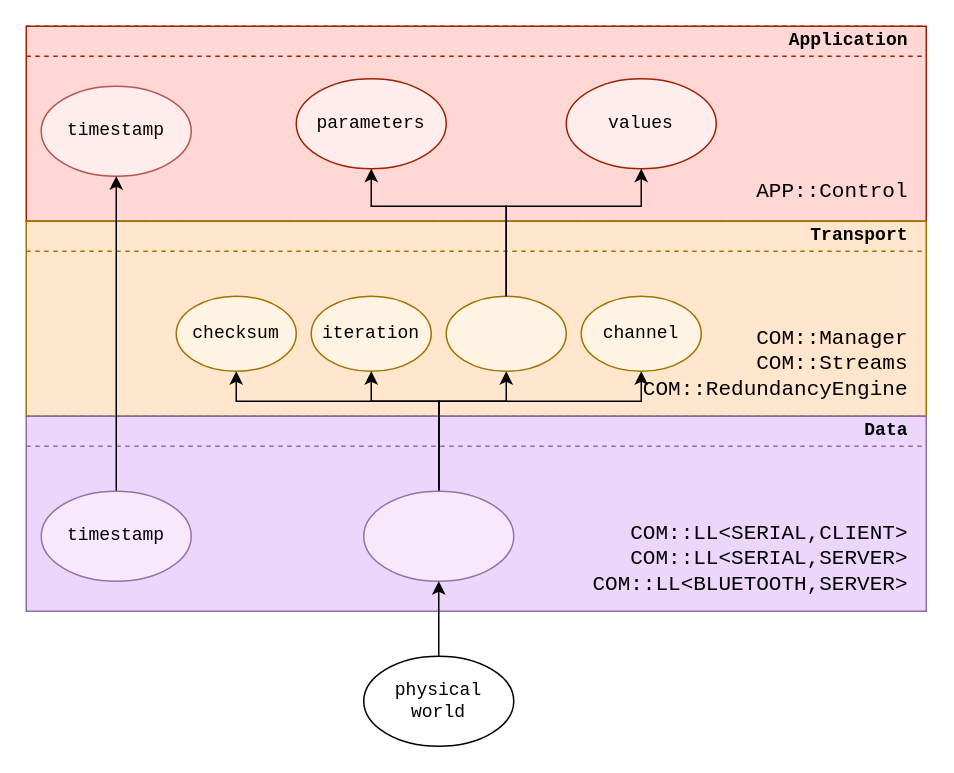
Image size: 954x773. Some labels were removed from this diagram. Here are the shapes that lost their labels. From the top down, the box of each, then its label:
(445, 295, 566, 371): packets
(362, 490, 514, 581): payload
